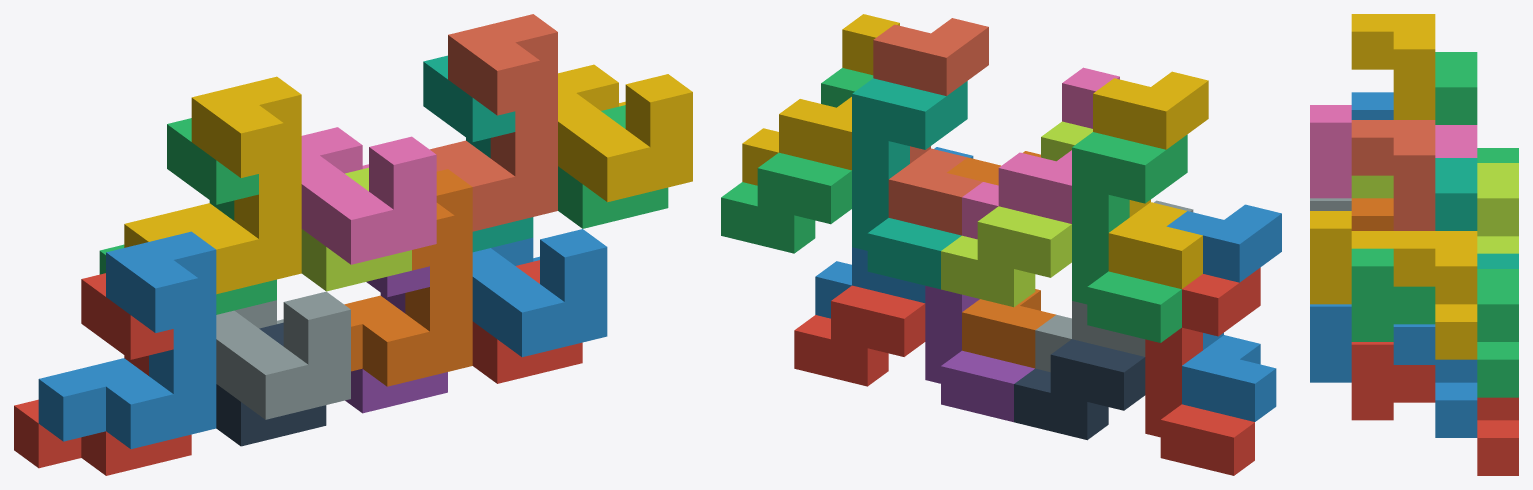
Rendered from tiling.obj.
The picture shows the model from 3 angles, left to right: view 1: azimuth 30°, elevation 25°; view 2: azimuth 150°, elevation 25°; view 3: azimuth 270°, elevation 25°; orthographic projection. The views are drawn at different scales.
Parts seen in each view (by area): view 1: copy_1_domain_2, copy_1_domain_4, copy_1_domain_8, copy_2_domain_4, copy_2_domain_8, copy_1_domain_6, copy_2_domain_6, copy_2_domain_2, copy_1_domain_1, copy_1_domain_3, copy_1_domain_7, copy_1_domain_5 (+4 smaller); view 2: copy_1_domain_3, copy_1_domain_7, copy_1_domain_4, copy_1_domain_1, copy_1_domain_8, copy_1_domain_2, copy_2_domain_7, copy_2_domain_3, copy_2_domain_1, copy_2_domain_5, copy_2_domain_8, copy_2_domain_4 (+4 smaller); view 3: copy_2_domain_8, copy_2_domain_7, copy_2_domain_6, copy_2_domain_5, copy_1_domain_8, copy_1_domain_4, copy_2_domain_4, copy_2_domain_3, copy_1_domain_7, copy_1_domain_3, copy_1_domain_6, copy_1_domain_2 (+1 smaller).
Part boxes in pixels (bbox=[...]): copy_1_domain_2: bbox=[38, 231, 216, 449]; copy_1_domain_4: bbox=[124, 76, 301, 294]; copy_1_domain_8: bbox=[430, 14, 557, 231]; copy_2_domain_4: bbox=[301, 127, 436, 264]; copy_2_domain_8: bbox=[558, 64, 692, 202]; copy_1_domain_6: bbox=[344, 169, 472, 386]; copy_2_domain_6: bbox=[472, 229, 607, 357]; copy_2_domain_2: bbox=[216, 291, 350, 419]; copy_1_domain_1: bbox=[14, 273, 191, 475]; copy_1_domain_3: bbox=[99, 118, 276, 314]; copy_1_domain_7: bbox=[423, 55, 533, 252]; copy_1_domain_5: bbox=[345, 266, 447, 413]; copy_1_domain_3: bbox=[1072, 132, 1187, 342]; copy_1_domain_7: bbox=[852, 78, 967, 289]; copy_1_domain_4: bbox=[1093, 71, 1208, 289]; copy_1_domain_1: bbox=[1145, 267, 1260, 475]; copy_1_domain_8: bbox=[873, 18, 988, 235]; copy_1_domain_2: bbox=[1166, 204, 1281, 421]; copy_2_domain_7: bbox=[721, 68, 873, 253]; copy_2_domain_3: bbox=[941, 121, 1092, 307]; copy_2_domain_1: bbox=[1014, 339, 1145, 440]; copy_2_domain_5: bbox=[794, 285, 925, 386]; copy_2_domain_8: bbox=[742, 14, 899, 185]; copy_2_domain_4: bbox=[962, 67, 1119, 239]; copy_2_domain_8: bbox=[1310, 211, 1477, 359]; copy_2_domain_7: bbox=[1351, 248, 1518, 397]; copy_2_domain_6: bbox=[1310, 304, 1477, 437]; copy_2_domain_5: bbox=[1351, 342, 1518, 475]; copy_1_domain_8: bbox=[1351, 120, 1435, 230]; copy_1_domain_4: bbox=[1351, 14, 1435, 119]; copy_2_domain_4: bbox=[1310, 105, 1477, 198]; copy_2_domain_3: bbox=[1351, 163, 1518, 253]; copy_1_domain_7: bbox=[1435, 158, 1518, 268]; copy_1_domain_3: bbox=[1435, 52, 1518, 162]; copy_1_domain_6: bbox=[1351, 198, 1393, 230]; copy_1_domain_2: bbox=[1351, 92, 1393, 119].
Bounding box in the file's own units: 14 × 8 × 5.
